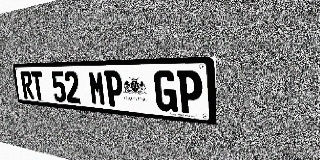2: (64, 71, 81, 104)
5: (51, 71, 67, 103)
G: (153, 70, 178, 112)
M: (88, 71, 107, 106)
P: (177, 70, 203, 115), (104, 71, 124, 108)
R: (20, 71, 34, 100)
T: (31, 71, 46, 101)
